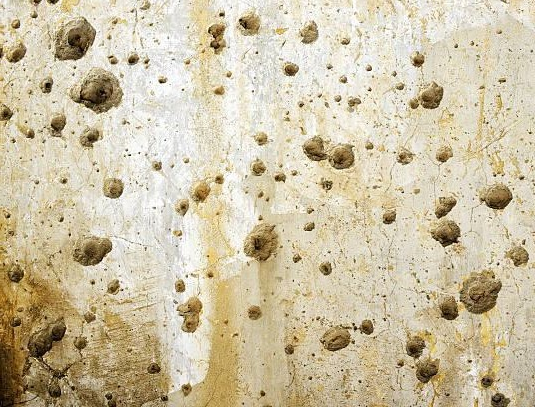Spalling: (1, 1, 535, 407)
